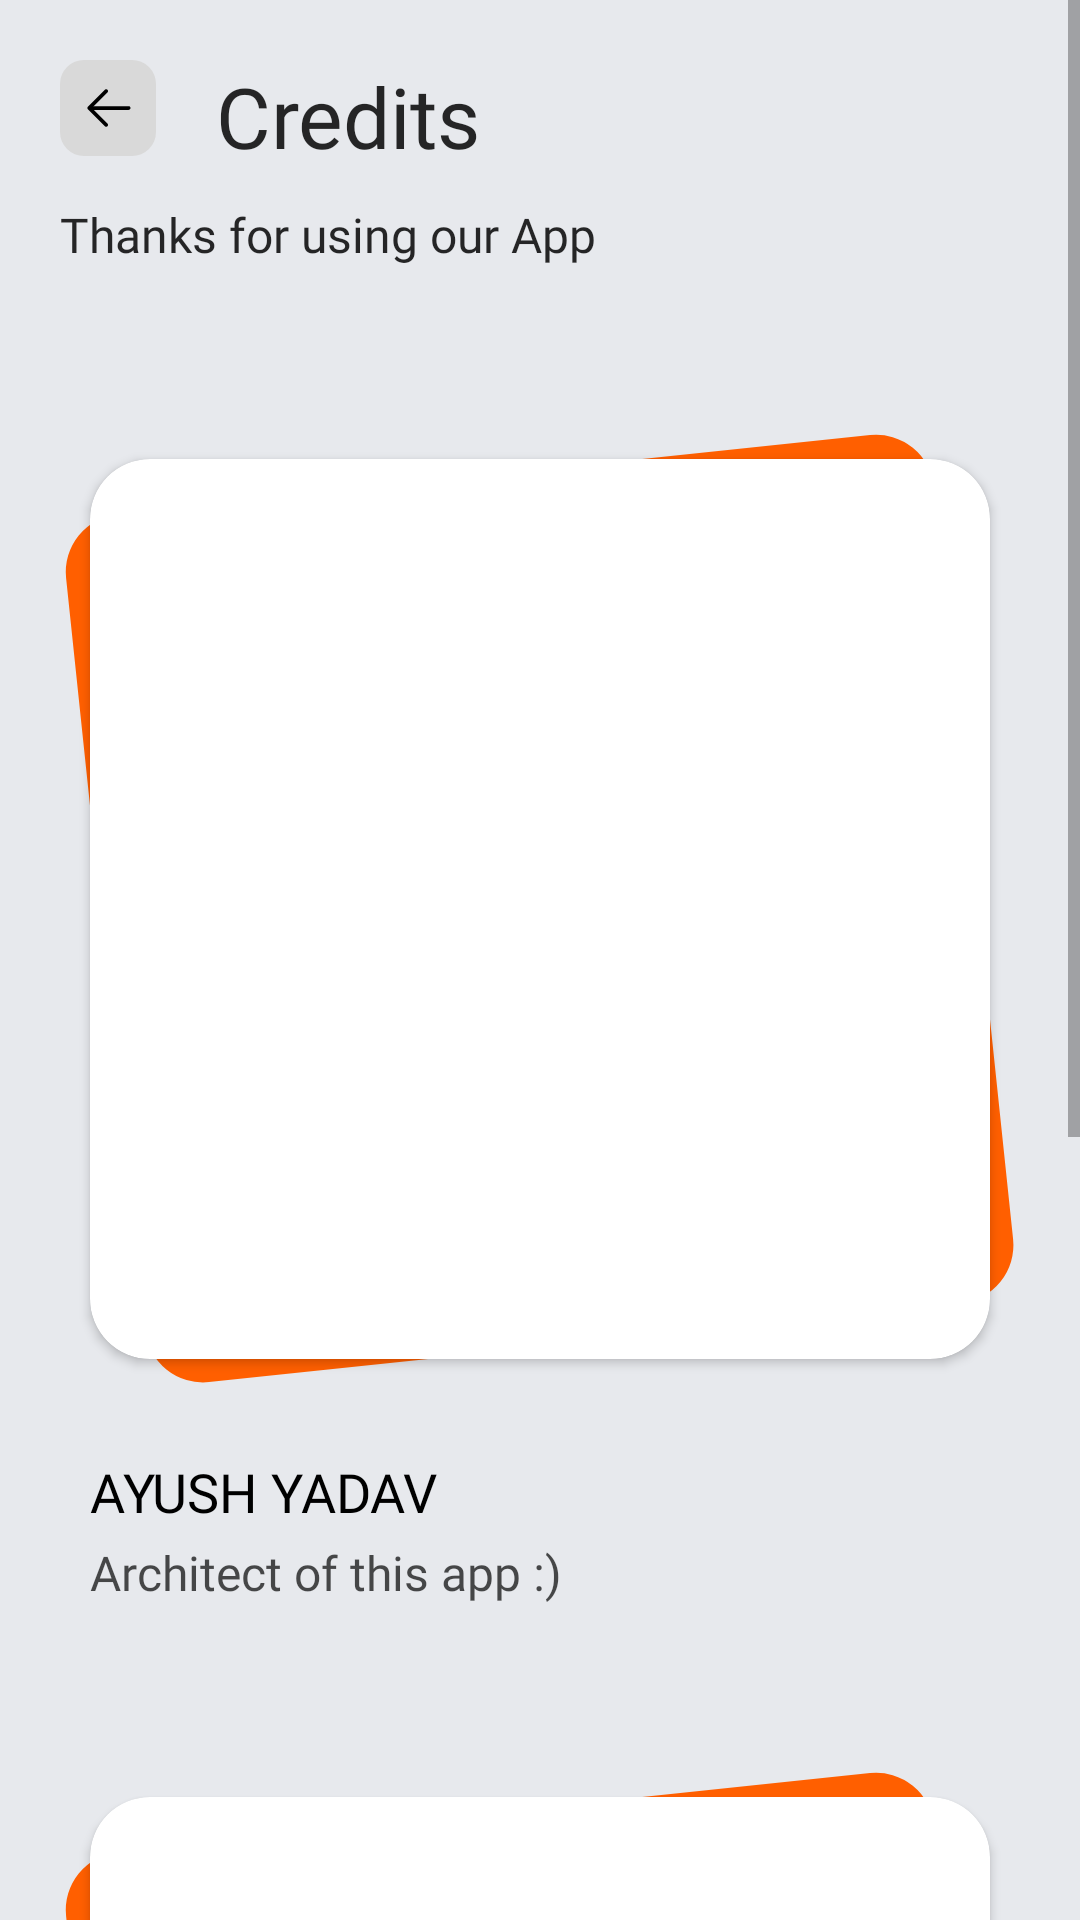

Point at icon controls on the screen. Image size 1080 × 1920, points as point (x, y).
back: point (108, 108)
